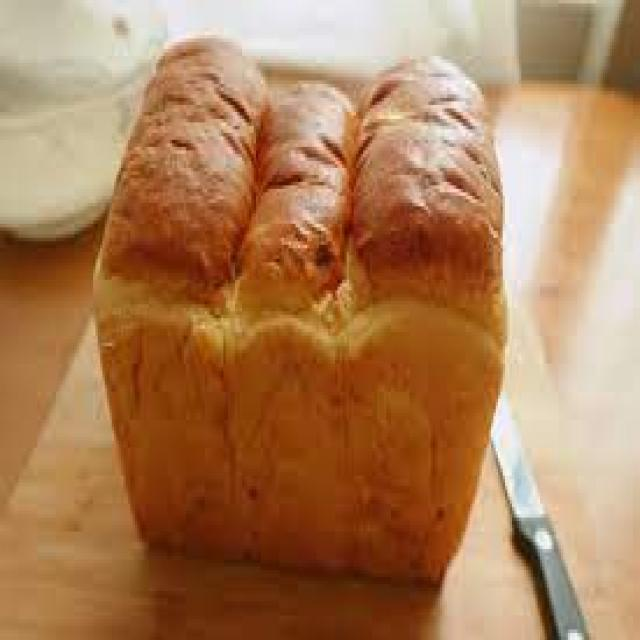bread: (92, 36, 504, 584)
